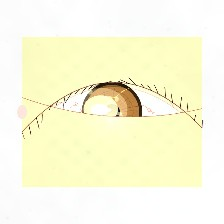corneal_ulcer: (73, 87, 129, 132)
